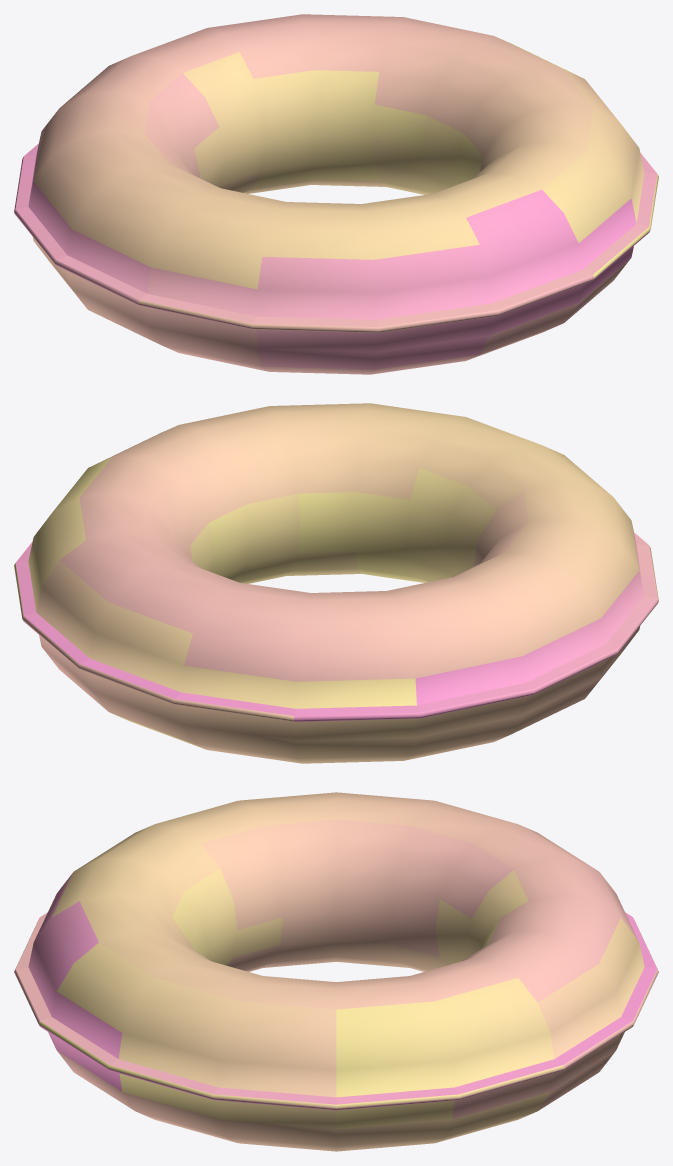
File: Donut_Floater.fbx
3 views of the same model, one above another, from view 1: azimuth 30°, elevation 25°; view 2: azimuth 150°, elevation 25°; view 3: azimuth 270°, elevation 25° (orthographic).
Visible parts, largest first — view 1: Donut1; view 2: Donut1; view 3: Donut1.
Boxes of the visible parts, x1=… form: Donut1: x1=14, y1=14, x2=658, y2=374; Donut1: x1=14, y1=403, x2=658, y2=763; Donut1: x1=14, y1=792, x2=658, y2=1151.
Bounding box in the file's own units: 259 × 68 × 259.
Materials: 1 (1 with a texture image).
